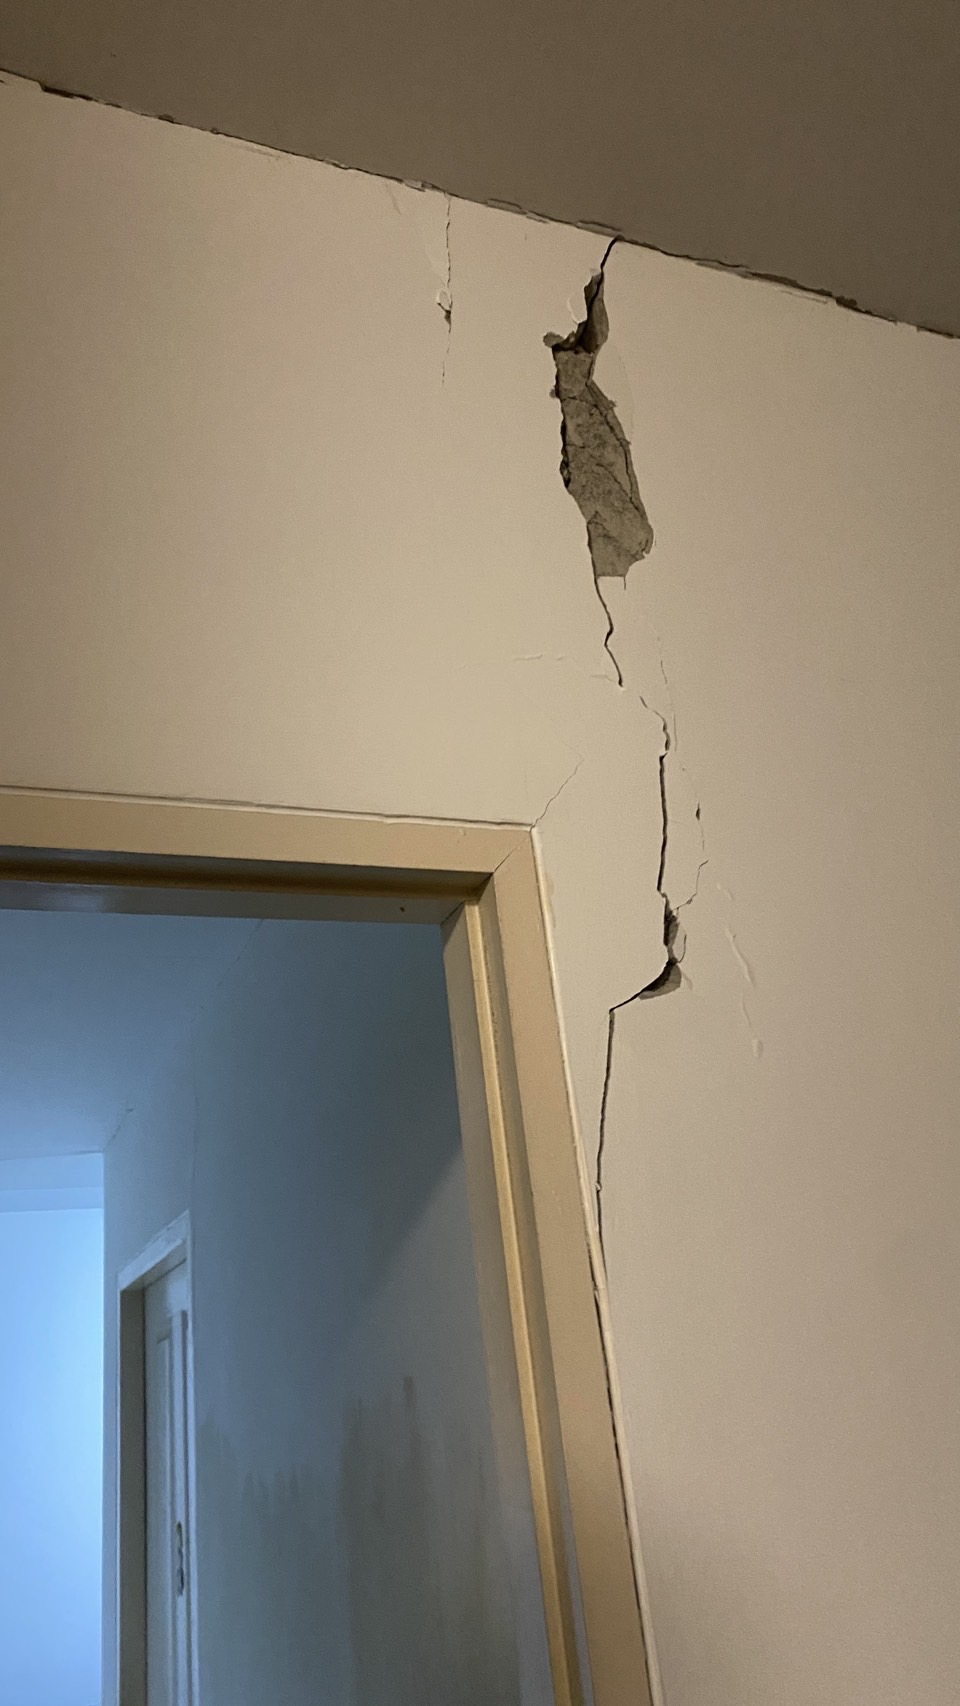Low: (397, 180, 769, 1288)
